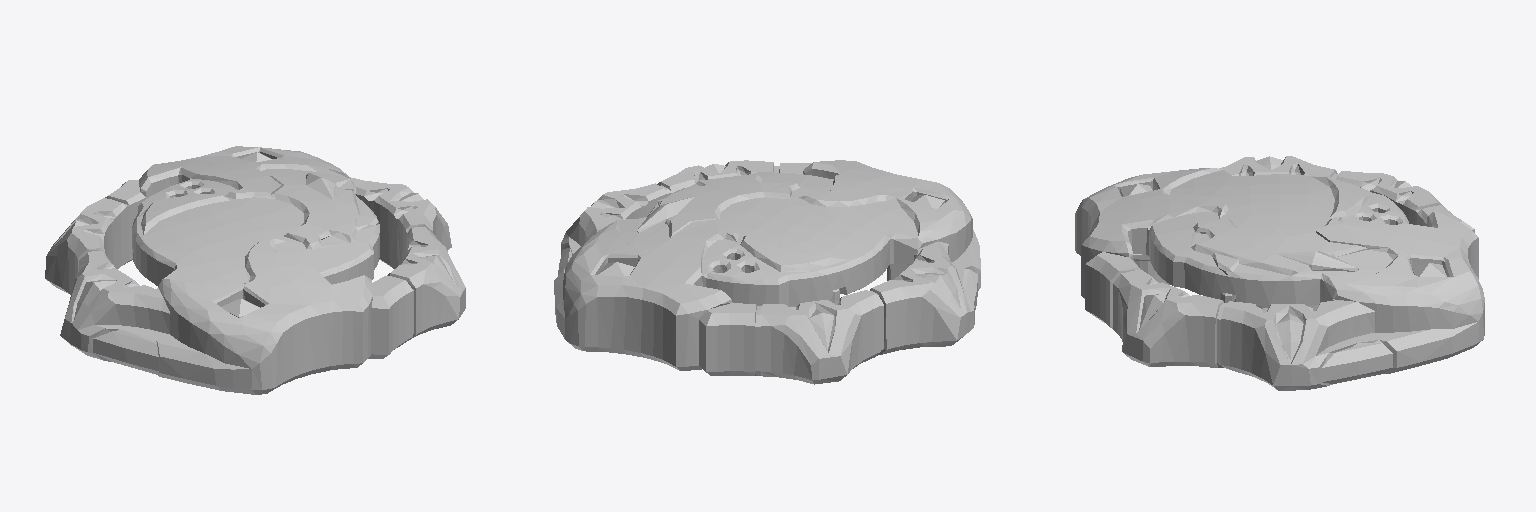
Rendered from spryzen.obj.
3 renders of one model, left to right at view 1: azimuth 30°, elevation 25°; view 2: azimuth 150°, elevation 25°; view 3: azimuth 270°, elevation 25°, orthographic.
Parts seen in each view (by area): view 1: Mesh_0031out.002, Mesh_0029out; view 2: Mesh_0031out.002, Mesh_0029out; view 3: Mesh_0031out.002, Mesh_0029out.
Boxes of the visible parts, <box> form: Mesh_0031out.002: <box>45,146,465,394</box>; Mesh_0029out: <box>133,152,271,317</box>; Mesh_0031out.002: <box>554,160,980,384</box>; Mesh_0029out: <box>598,195,944,306</box>; Mesh_0031out.002: <box>1075,156,1484,390</box>; Mesh_0029out: <box>1120,184,1446,308</box>.
Size of the model in its own units: 0.4808 by 0.1071 by 0.4431.